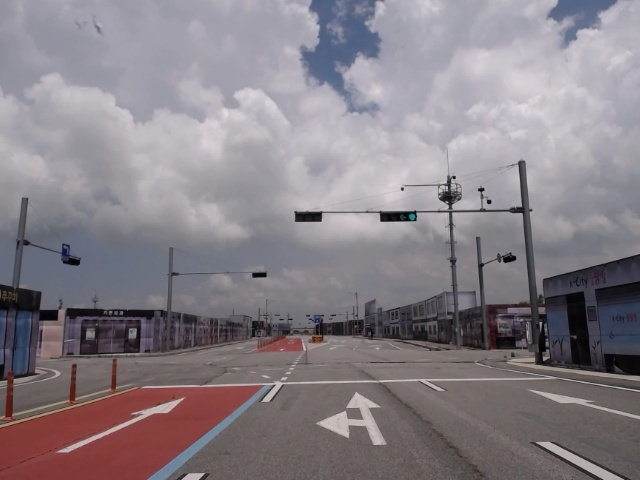all_green_4: (381, 214, 416, 220)
